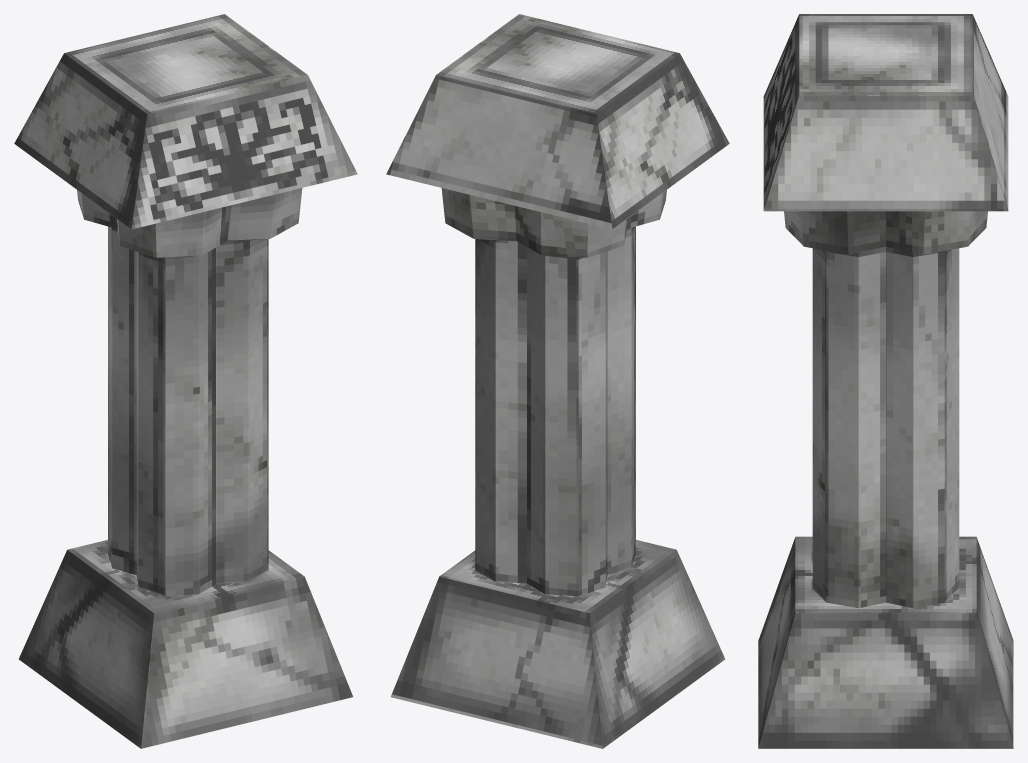
File: small_columnwt.fbx
3 views of the same model, side by side, from view 1: azimuth 30°, elevation 25°; view 2: azimuth 150°, elevation 25°; view 3: azimuth 270°, elevation 25° (orthographic). The views are drawn at different scales.
Parts seen in each view (by area): view 1: Cube.012; view 2: Cube.012; view 3: Cube.012.
Boxes of the visible parts, box(x1,y1,x2,y2) form: Cube.012: box(14, 14, 357, 748); Cube.012: box(386, 14, 729, 748); Cube.012: box(758, 14, 1013, 748).
Size of the model in its own units: 399 by 1035 by 375.
